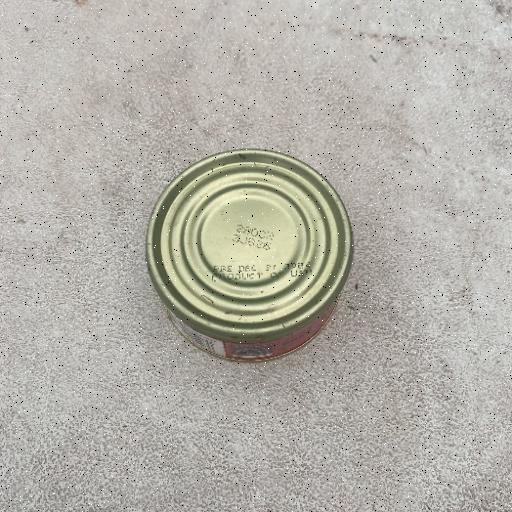Metal: (142, 146, 354, 364)
